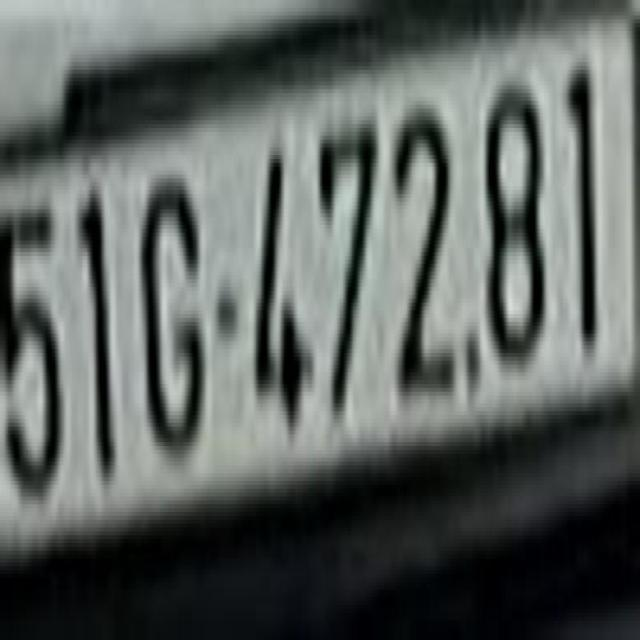1: (558, 39, 618, 419), (72, 155, 126, 508)
2: (389, 58, 459, 438)
4: (246, 97, 310, 489)
5: (1, 163, 61, 512)
7: (314, 74, 378, 446)
8: (485, 50, 549, 408)
G: (136, 112, 204, 485)
